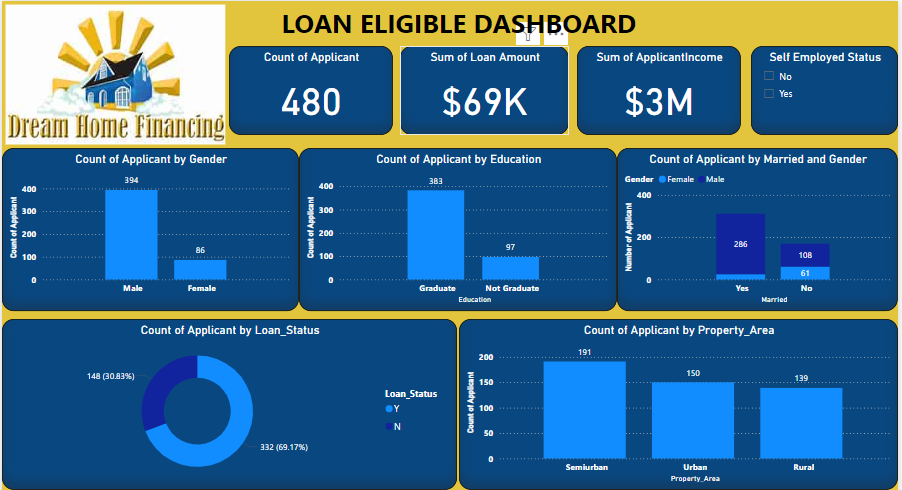

Layout of this report page (visuals, bound fields, positions):
{"tool":"powerbi","page":{"name":"Page 1","canvas":[1280,720],"ordinal":1},"visuals":[{"type":"card","title":"Count of Applicant","fields":{"Values":["Count(loan-train.Loan_ID)"]},"box":[324.3,64.3,234.3,127.1],"z":0},{"type":"card","title":"Sum of ApplicantIncome","fields":{"Values":["Sum(loan-train.ApplicantIncome)"]},"box":[821.4,64.3,234.3,127.1],"z":1000},{"type":"columnChart","title":"Count of Applicant by Gender","fields":{"Category":["loan-train.Gender"],"Y":["CountNonNull(loan-train.Loan_ID)"]},"box":[0,210,424.3,232.9],"z":2000},{"type":"card","title":"Sum of Loan Amount","fields":{"Values":["Sum(loan-train.LoanAmount)"]},"box":[568.6,64.3,241.4,127.1],"z":3000},{"type":"columnChart","title":"Count of Applicant by Married and Gender","fields":{"Category":["loan-train.Married"],"Y":["CountNonNull(loan-train.Loan_ID)"],"Series":["loan-train.Gender"]},"box":[878.6,210,401.4,232.9],"z":4000},{"type":"columnChart","fields":{"Y":["CountNonNull(loan-train.Loan_ID)"],"Category":["loan-train.Education"]},"box":[424.3,210,454.3,232.9],"z":5000},{"type":"columnChart","fields":{"Y":["CountNonNull(loan-train.Loan_ID)"],"Category":["loan-train.Property_Area"]},"box":[652.9,454.3,627.1,244.3],"z":6000},{"type":"donutChart","fields":{"Category":["loan-train.Loan_Status"],"Y":["CountNonNull(loan-train.Loan_ID)"]},"box":[0,454.3,650,244.3],"z":7000},{"type":"image","box":[0,0,324.3,210],"z":8000},{"type":"textbox","box":[385.7,0,534.3,64.3],"z":9000},{"type":"slicer","title":"Self Employed Status","fields":{"Values":["loan-train.Self_Employed"]},"box":[1070,64.3,210,127.1],"z":11000}]}

Visuals, with their boxes in screenshot pixels (x1, y1, x2, y2):
"Count of Applicant" card: Rect(226, 45, 389, 133)
"Sum of ApplicantIncome" card: Rect(573, 45, 736, 133)
"Count of Applicant by Gender" columnChart: Rect(0, 146, 296, 309)
"Sum of Loan Amount" card: Rect(396, 45, 565, 133)
"Count of Applicant by Married and Gender" columnChart: Rect(613, 146, 892, 309)
columnChart - CountNonNull(loan-train.Loan_ID) x loan-train.Education: Rect(296, 146, 613, 309)
columnChart - CountNonNull(loan-train.Loan_ID) x loan-train.Property_Area: Rect(455, 317, 892, 487)
donutChart - loan-train.Loan_Status x CountNonNull(loan-train.Loan_ID): Rect(0, 317, 453, 487)
image: Rect(0, 0, 226, 146)
textbox: Rect(269, 0, 641, 45)
"Self Employed Status" slicer: Rect(746, 45, 892, 133)
